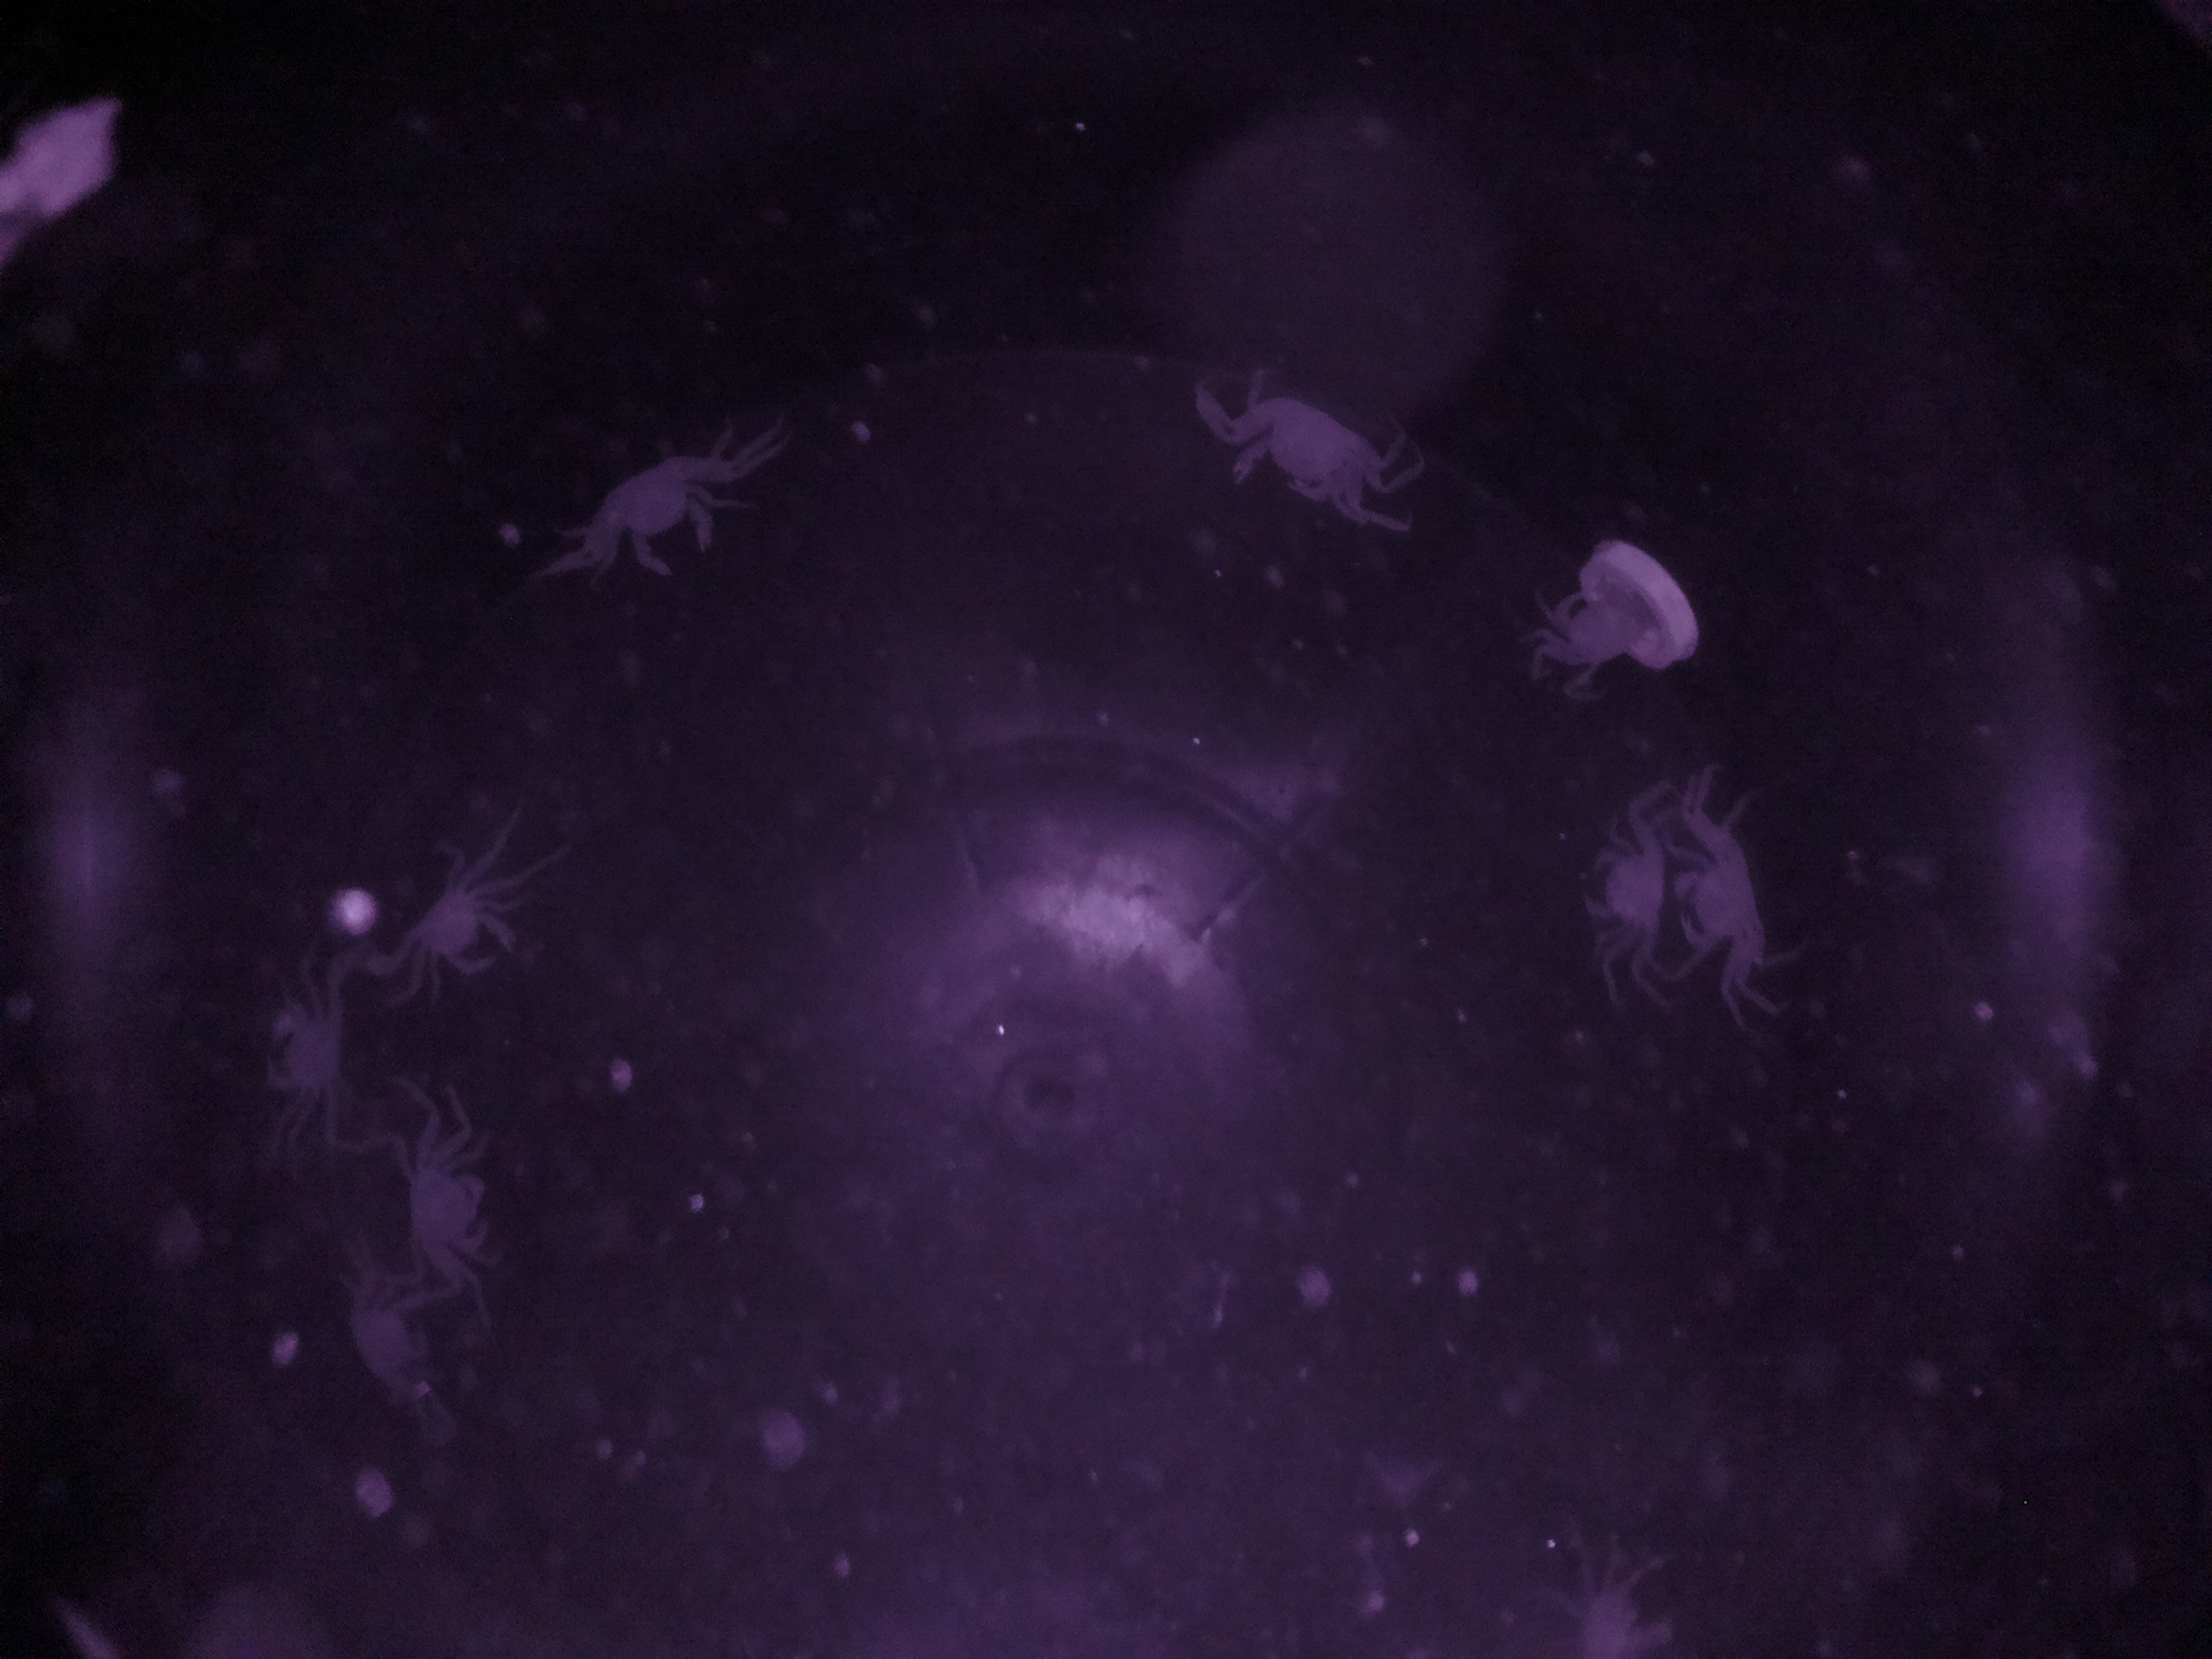Crab: (1219, 366, 1400, 547), (371, 1098, 510, 1303), (1674, 802, 1818, 979), (376, 829, 529, 995), (590, 432, 745, 591), (240, 950, 355, 1141), (1559, 809, 1683, 972)
